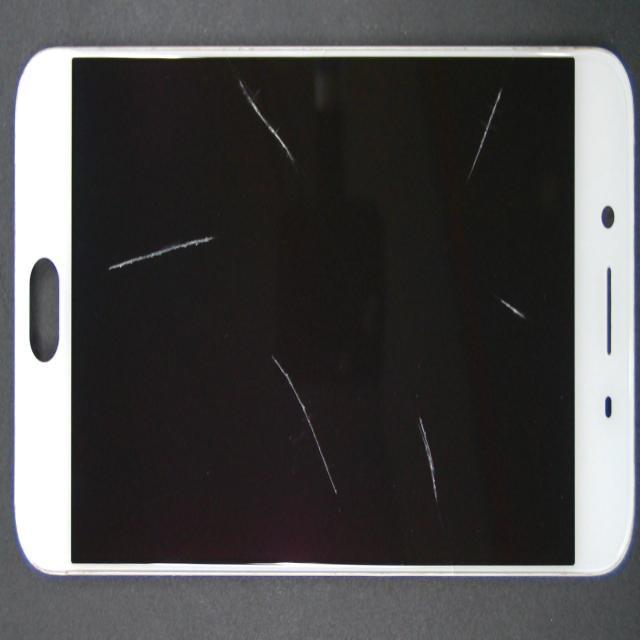scratch: (268, 351, 339, 497), (233, 76, 295, 163), (410, 398, 445, 503), (109, 235, 212, 270), (464, 89, 503, 181), (491, 297, 528, 330)
